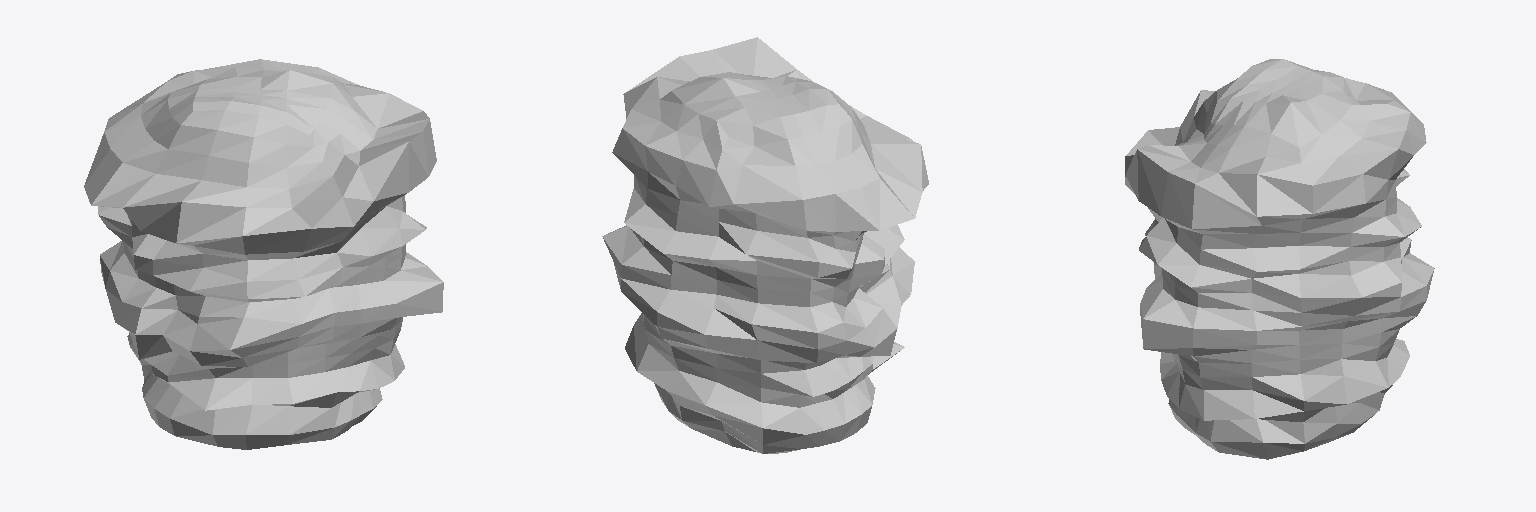
The model's file is env_level1_Canyon_Rock24.obj.
The picture shows the model from 3 angles: view 1: azimuth 30°, elevation 25°; view 2: azimuth 150°, elevation 25°; view 3: azimuth 270°, elevation 25°; orthographic projection.
Visible parts, largest first — view 1: rockwall_c04; view 2: rockwall_c04; view 3: rockwall_c04.
Boxes of the visible parts, x1,y1,x2,y2 form: rockwall_c04: [84, 59, 443, 449]; rockwall_c04: [602, 37, 928, 453]; rockwall_c04: [1125, 59, 1434, 459].
Bounding box in the file's own units: 3012 × 3184 × 2584.